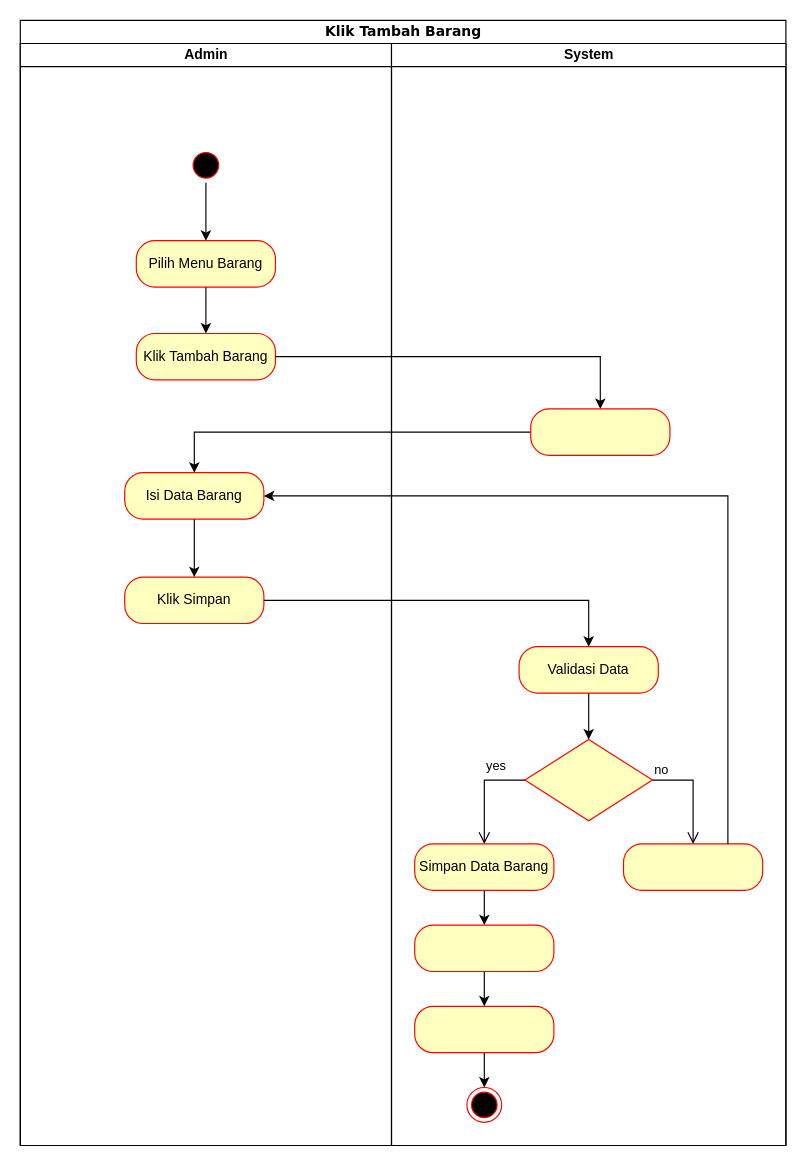
This 806x1166 diagram has some shape labels left out. Here are the shapes that lost their labels. From the top down, the centre of each, then its label:
point 600,431: Tampilkan Form Tambah Barang
point 588,779: Data Valid?
point 692,866: Tampilkan Pesan Kesalahan
point 484,947: Tampilkan Pesan Berhasil
point 484,1029: Tampilkan Daftar Barang
